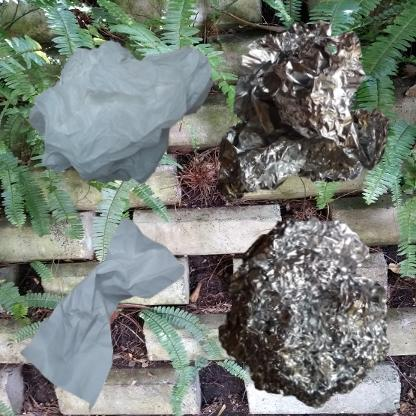aluminio: (213, 10, 403, 223), (213, 213, 392, 412)
bolsa: (10, 10, 265, 232)
papel: (10, 213, 197, 416)
